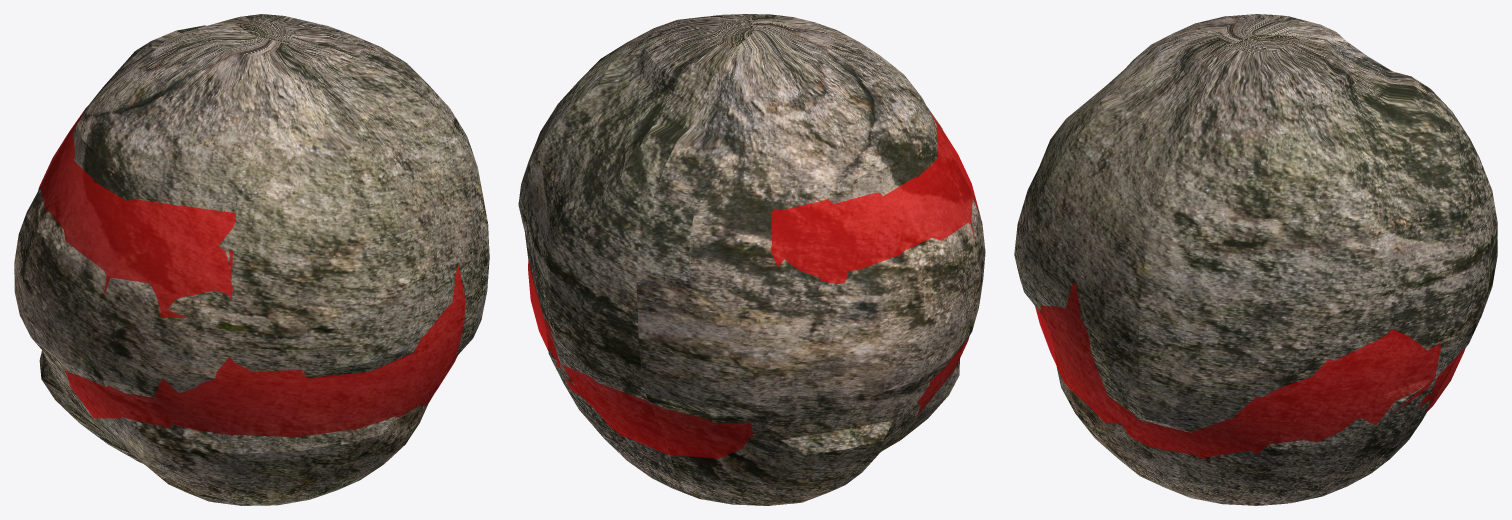
File: RedRock.fbx
3 views of the same model, side by side, from view 1: azimuth 30°, elevation 25°; view 2: azimuth 150°, elevation 25°; view 3: azimuth 270°, elevation 25° (orthographic).
Visible parts, largest first — view 1: polySurface1; view 2: polySurface1; view 3: polySurface1.
Boxes of the visible parts, x1,y1,x2,y2 form: polySurface1: (14,14,489,505); polySurface1: (518,14,985,505); polySurface1: (1014,14,1497,505).
Bounding box in the file's own units: 1.76 × 1.85 × 1.81.
2 materials, 1 textured.
